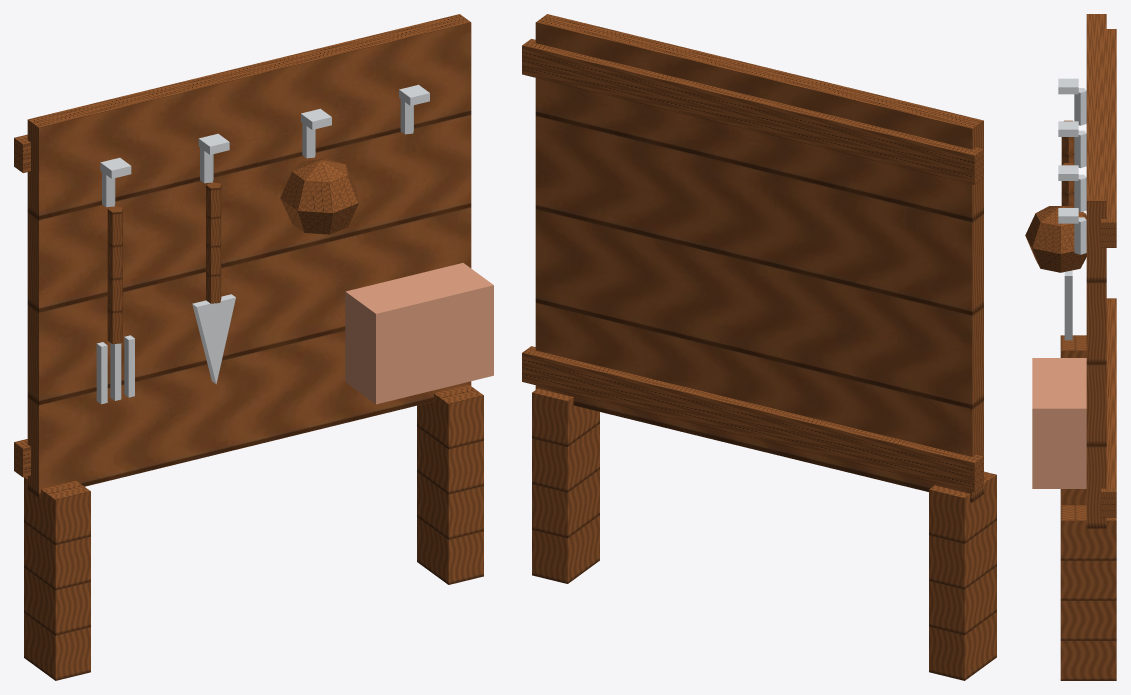
Rendered from allotments-and-community-garden-tool-rack-354de393__35154.glb.
3 renders of one model, left to right at view 1: azimuth 30°, elevation 25°; view 2: azimuth 150°, elevation 25°; view 3: azimuth 270°, elevation 25°, orthographic. The views are drawn at different scales.
Visible parts, largest first — view 1: tool-rack-timber, tool-rack-terracotta, tool-rack-galv; view 2: tool-rack-timber; view 3: tool-rack-timber, tool-rack-terracotta, tool-rack-galv.
Boxes of the visible parts, x1,y1,x2,y2 form: tool-rack-timber: (14,14,483,680); tool-rack-terracotta: (345,263,493,404); tool-rack-galv: (96,84,429,404); tool-rack-timber: (522,14,996,680); tool-rack-timber: (1025,14,1116,680); tool-rack-terracotta: (1032,358,1086,488); tool-rack-galv: (1058,78,1086,340).
Size of the model in its own units: 1.14 by 1.32 by 0.2277.
3 materials, 1 textured.
